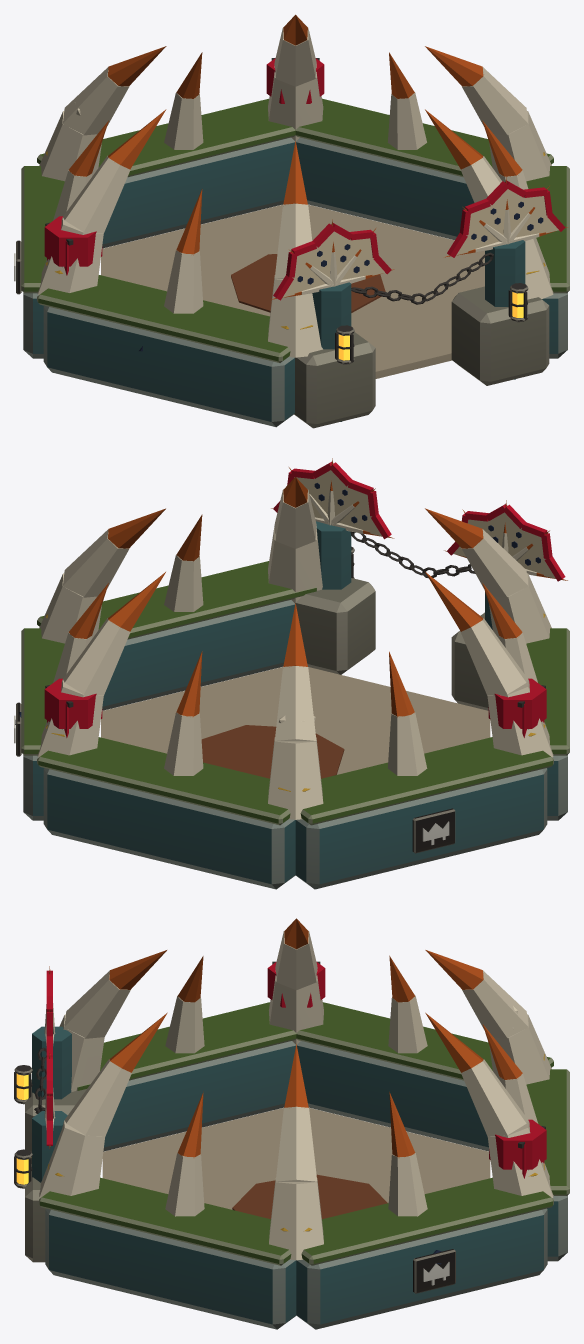
File: rb_barracks.glb
3 renders of one model, top to bottom at view 1: azimuth 30°, elevation 25°; view 2: azimuth 150°, elevation 25°; view 3: azimuth 270°, elevation 25°, orthographic.
Visible parts, largest first — view 1: rb_barracks; view 2: rb_barracks; view 3: rb_barracks.
Part boxes in pixels (bbox=[...]): rb_barracks: bbox=[14, 14, 569, 428]; rb_barracks: bbox=[14, 458, 569, 889]; rb_barracks: bbox=[14, 918, 569, 1329].
Size of the model in its own units: 7.65 by 3.11 by 6.95.
